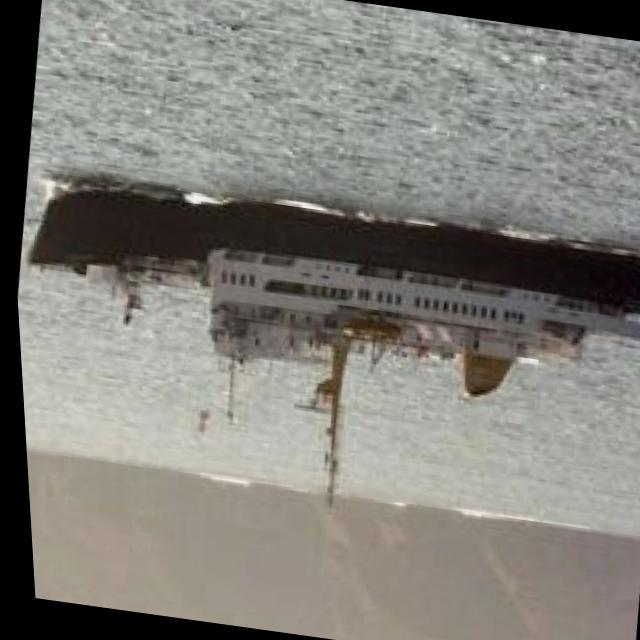ship2: (24, 188, 640, 509)
